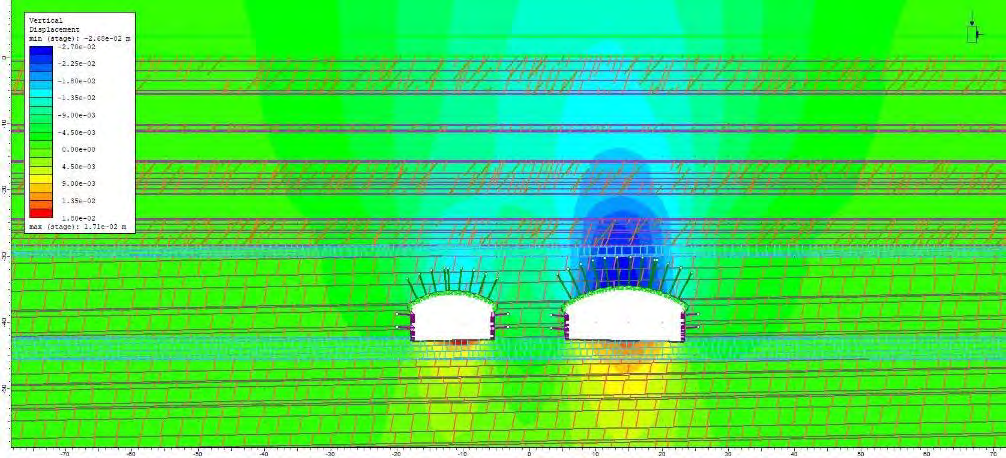crown: (608, 273, 643, 286), (439, 276, 466, 289)
label: (24, 13, 136, 231)
tunnel-opening: (566, 286, 684, 343), (408, 290, 495, 342)
